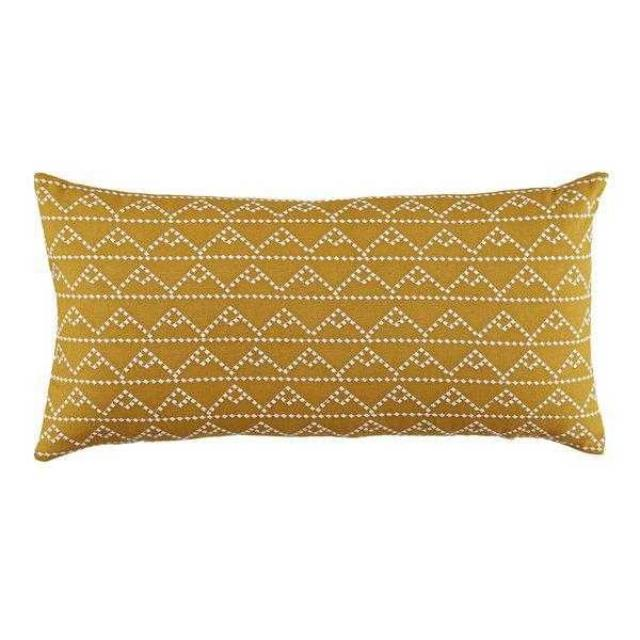pillow: (31, 166, 609, 462)
